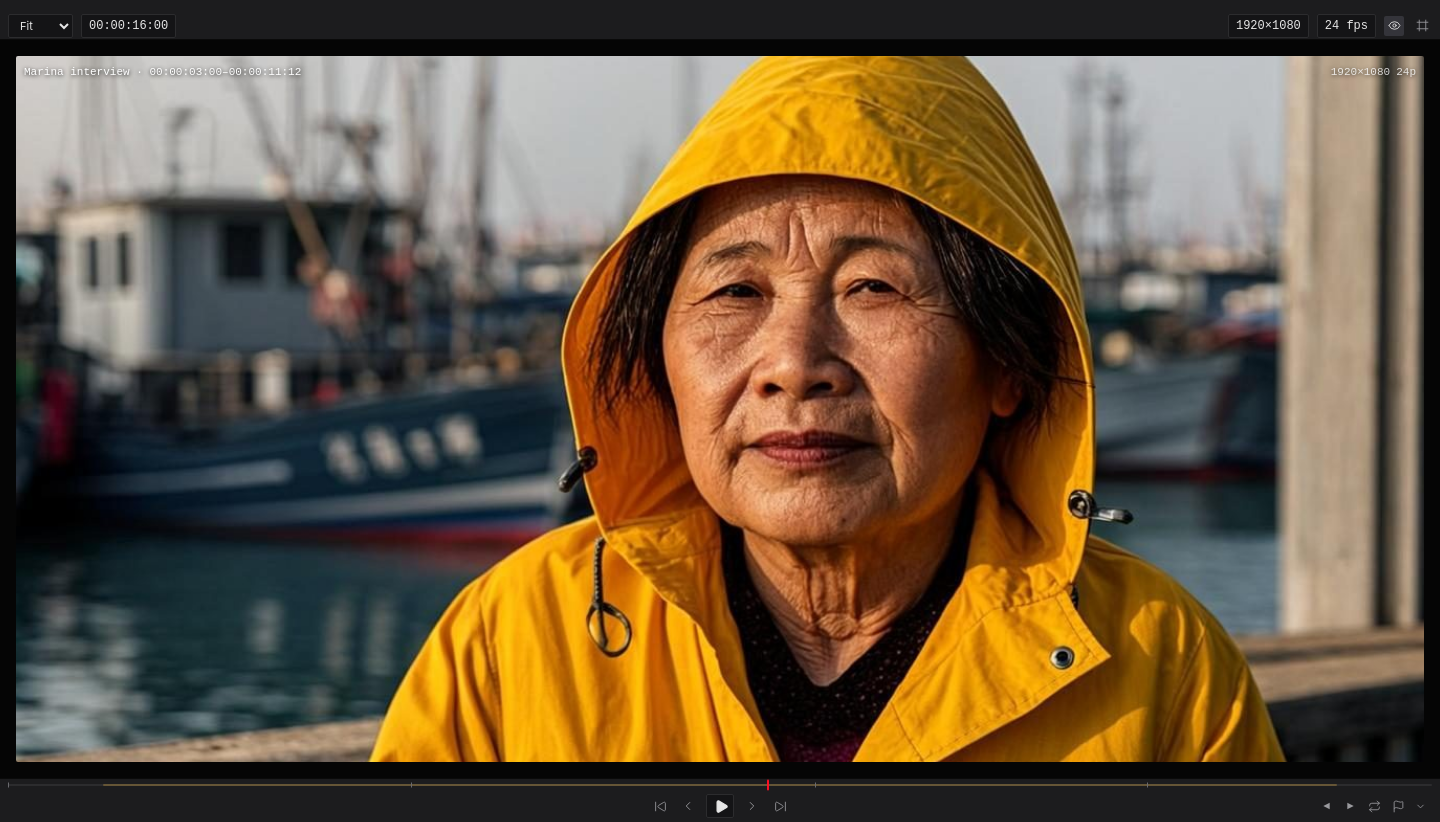
Test: Viewer (spec 18 §4.3) › safe-area guides render the 90/80 frames only while toggled on
The image size is (1440, 822).
Click the button named "Toggle safe area guides". click: (1422, 26)
box: x1=1412 y1=16 x2=1432 y2=36
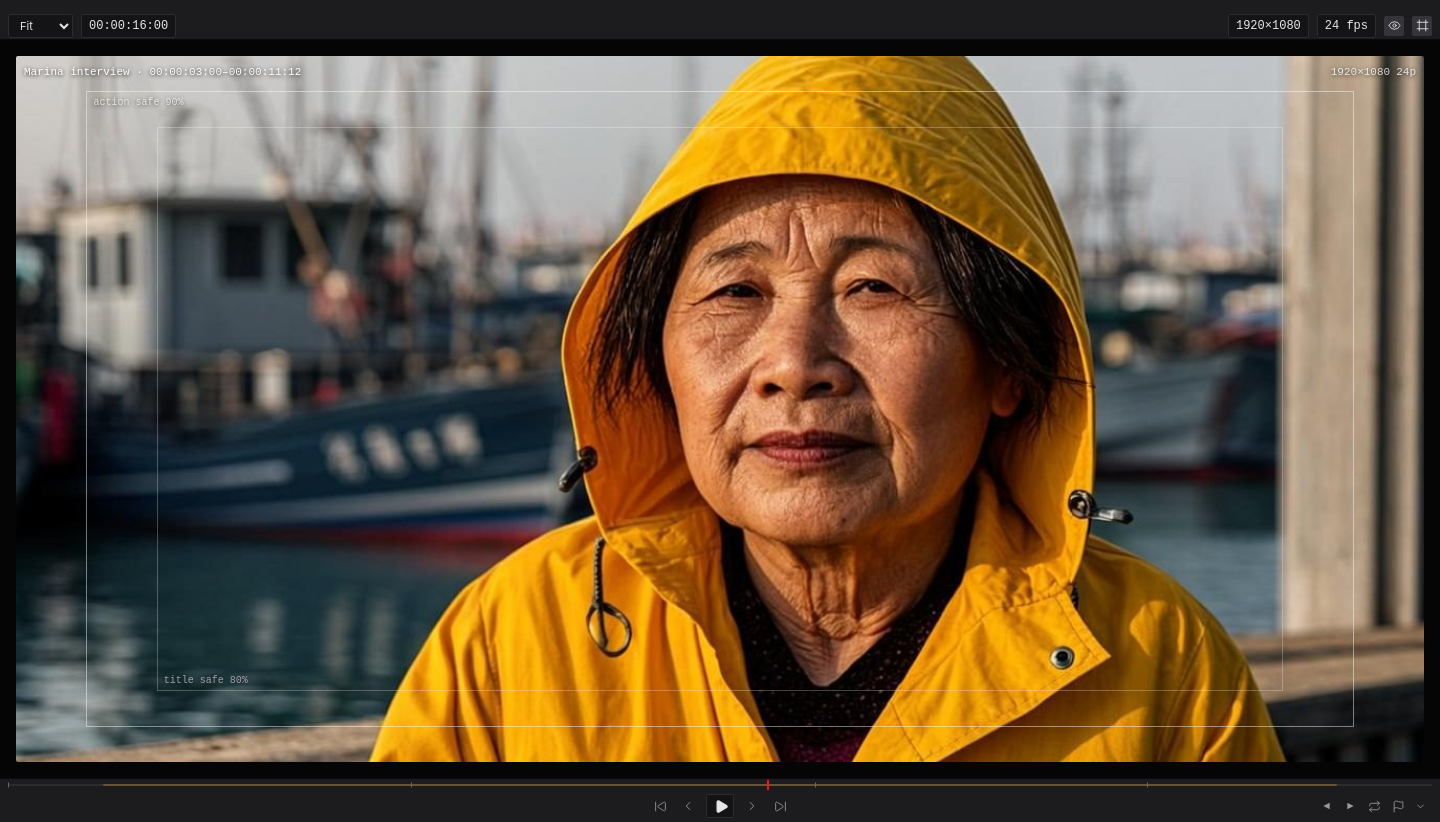
Now the element with test id "shell-viewer-safe-guides" is shown
Now the text "action safe 90%" is shown, box x1=93 y1=95 x2=183 y2=110
Now the text "title safe 80%" is shown, box x1=164 y1=673 x2=248 y2=688
